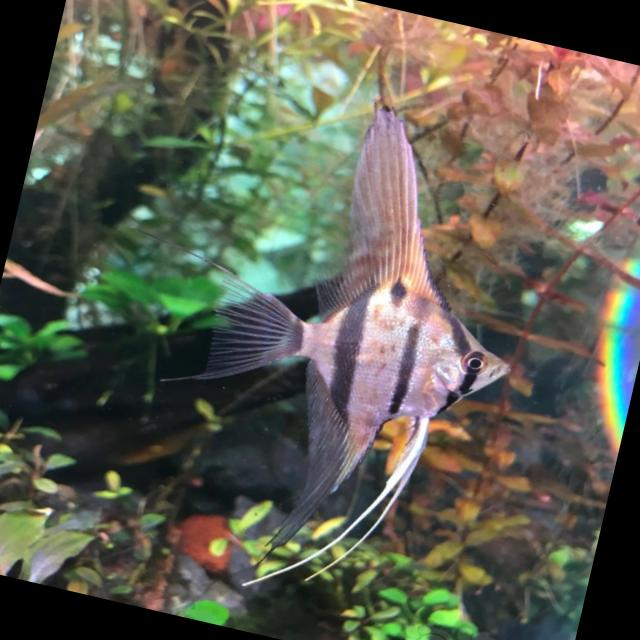AngelFish: (153, 65, 570, 630)
